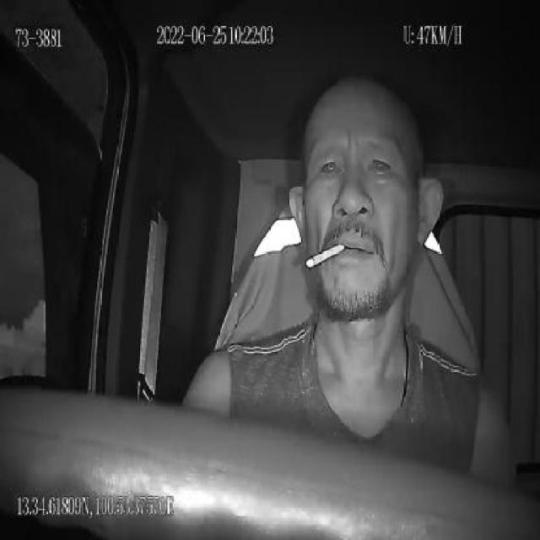smoking: (305, 241, 346, 269)
